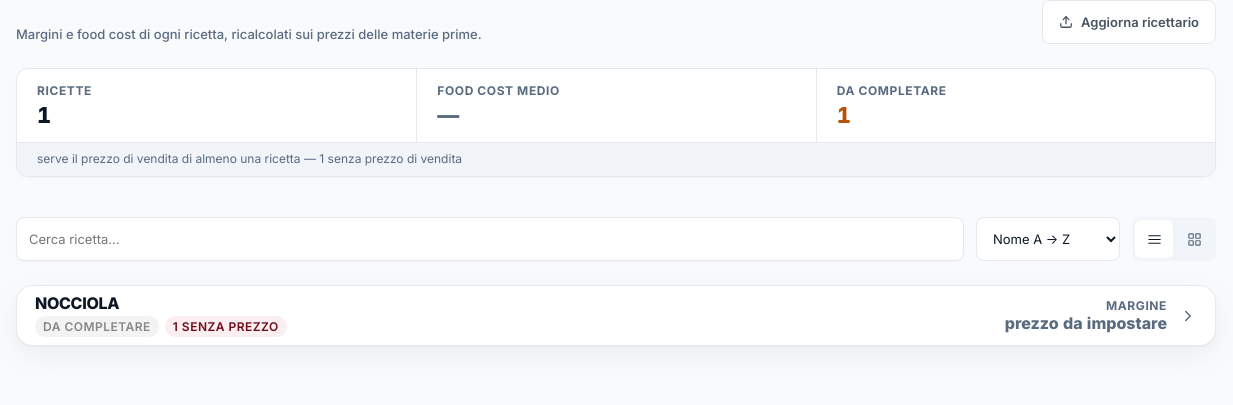
it: Ricettario — niente prezzi inventati › aprendo la card, la riga del prezzo lo dichiara e i box mostrano un trattino
Click the text "NOCCIOLA": (77, 303) [35, 293, 119, 313]
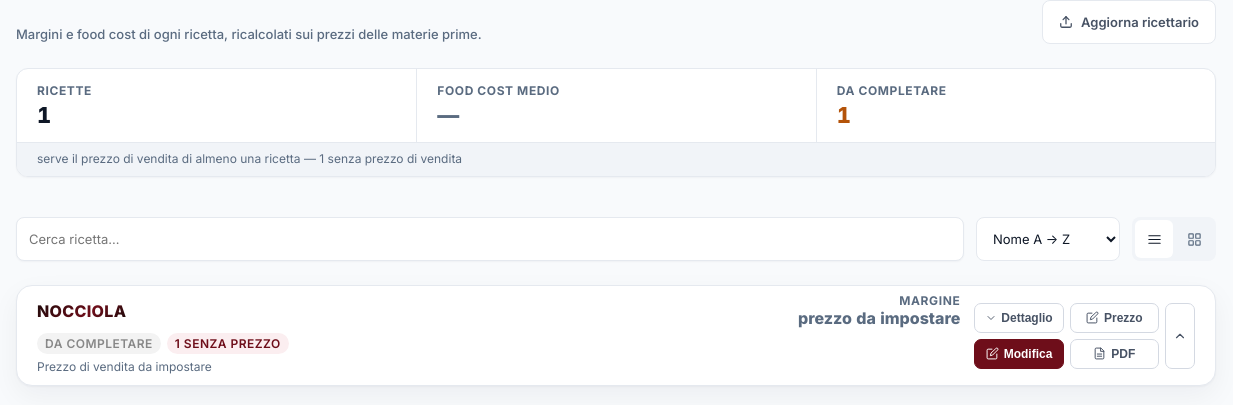
Expected: the text "—" is shown, [437, 102, 459, 128]
Now the text "Prezzo di vendita da impostare" is shown, box [37, 359, 212, 374]
